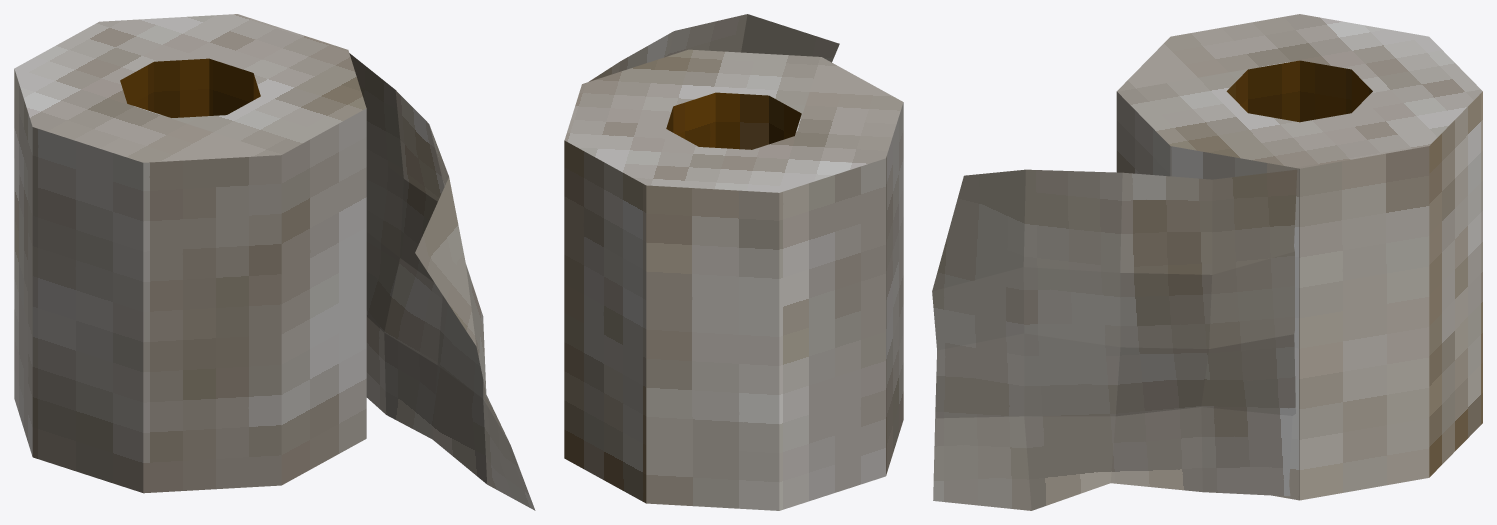
File: toiletpaper.glb
The picture shows the model from 3 angles, left to right: view 1: azimuth 30°, elevation 25°; view 2: azimuth 150°, elevation 25°; view 3: azimuth 270°, elevation 25°; orthographic projection. The views are drawn at different scales.
Parts seen in each view (by area): view 1: Grid; view 2: Grid; view 3: Grid.
Boxes of the visible parts, x1,y1,x2,y2 form: Grid: (14, 14, 535, 510); Grid: (564, 14, 903, 510); Grid: (932, 14, 1482, 510).
Bounding box in the file's own units: 0.2078 × 0.2048 × 0.3009.
Materials: 1 (1 with a texture image).
